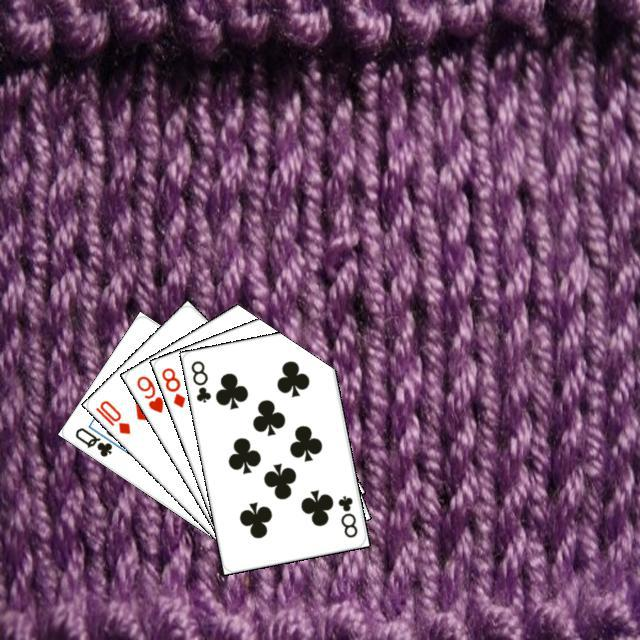10d: (90, 395, 132, 436)
8c: (186, 356, 213, 404), (333, 490, 359, 539)
8d: (156, 362, 187, 409)
9h: (131, 371, 165, 415)
Qc: (70, 419, 122, 459)
